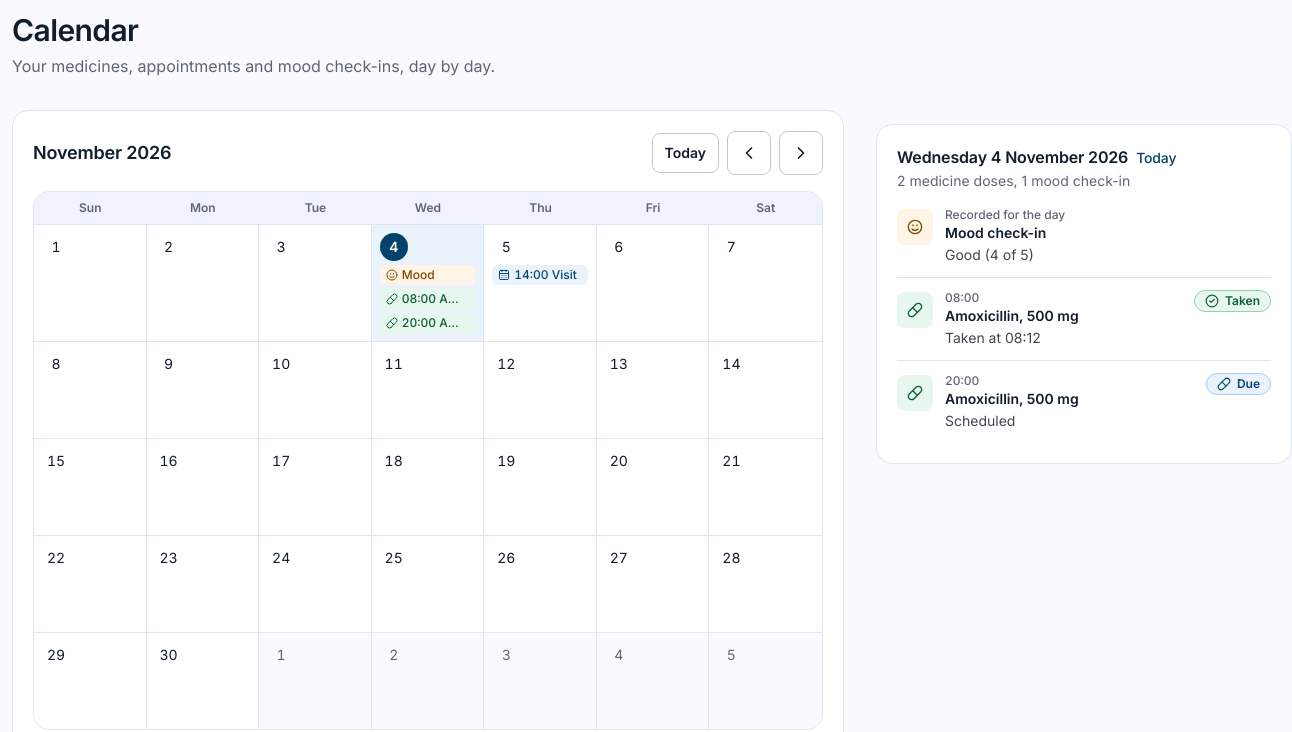
Test: the patient’s calendar › says a day with no record has nothing, rather than inventing a check-in
This screenshot has width=1292, height=732.
Click the button named "Monday 2 November 2026:" at (202, 273), box [147, 225, 258, 321]
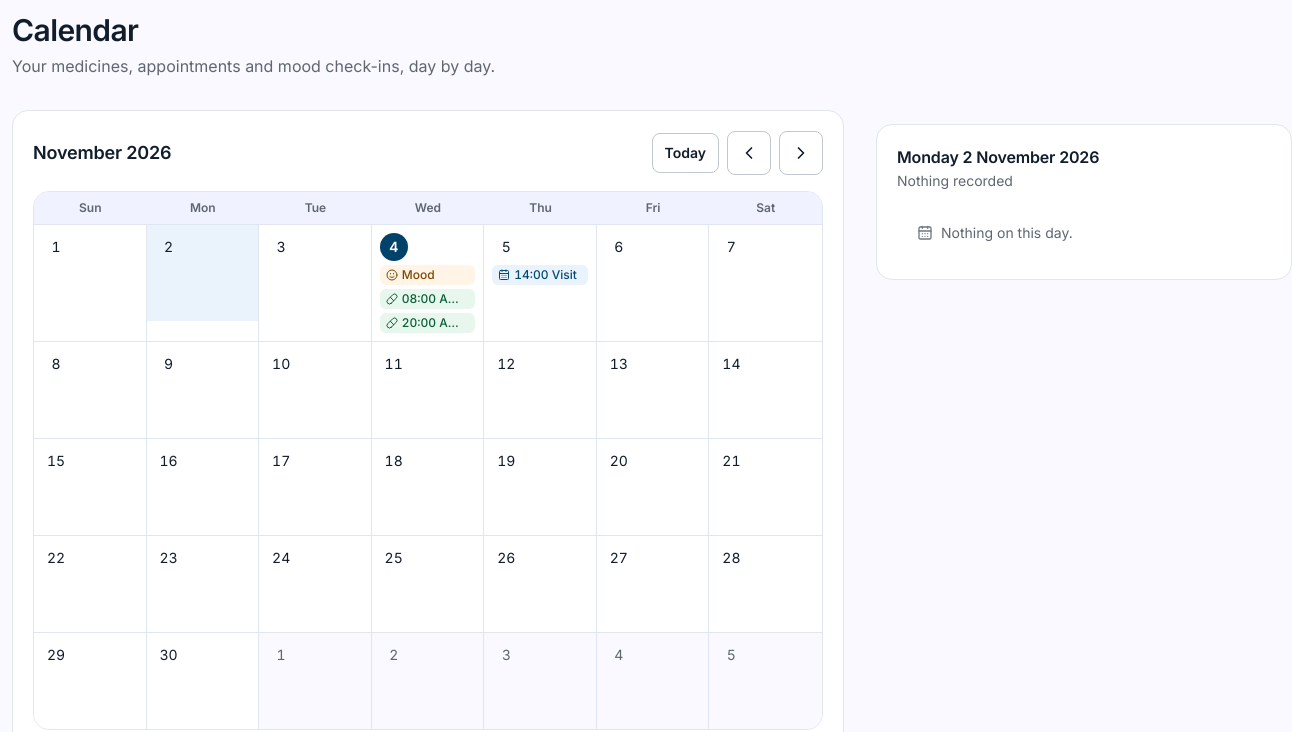
Expected: the element "Monday 2 November 2026 Nothing recorded Nothing on this day." does not show "Mood check-in", [897, 147, 1099, 241]
Result: the element "Monday 2 November 2026 Nothing recorded Nothing on this day." is shown at [897, 147, 1099, 241]
